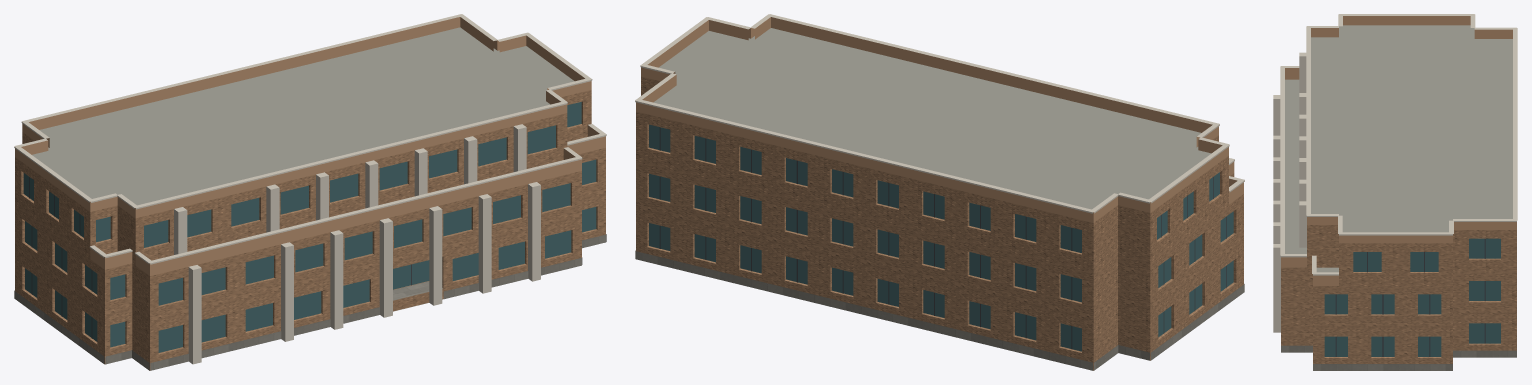
3 views of the same model, side by side, from view 1: azimuth 30°, elevation 25°; view 2: azimuth 150°, elevation 25°; view 3: azimuth 270°, elevation 25° (orthographic). The views are drawn at different scales.
Visible parts, largest first — view 1: rotc__wall, rotc__roof, rotc__glass, rotc__trim, rotc__parapet, rotc__base; view 2: rotc__wall, rotc__roof, rotc__glass, rotc__parapet, rotc__trim, rotc__base, rotc__frame; view 3: rotc__roof, rotc__wall, rotc__trim, rotc__glass, rotc__parapet, rotc__base, rotc__frame.
Part boxes in pixels (left/top/right/bottom): rotc__wall: left=15, top=90, right=605, bottom=370; rotc__roof: left=32, top=27, right=574, bottom=364; rotc__glass: left=23, top=102, right=596, bottom=352; rotc__trim: left=14, top=14, right=606, bottom=364; rotc__parapet: left=15, top=17, right=605, bottom=275; rotc__base: left=14, top=234, right=606, bottom=370; rotc__wall: left=636, top=76, right=1243, bottom=370; rotc__roof: left=653, top=28, right=1211, bottom=360; rotc__glass: left=649, top=124, right=1233, bottom=351; rotc__parapet: left=636, top=17, right=1243, bottom=222; rotc__trim: left=635, top=14, right=1244, bottom=213; rotc__base: left=635, top=250, right=1244, bottom=370; rotc__frame: left=659, top=127, right=1226, bottom=349; rotc__roof: left=1285, top=25, right=1512, bottom=272; rotc__wall: left=1281, top=225, right=1516, bottom=363; rotc__trim: left=1273, top=14, right=1517, bottom=332; rotc__glass: left=1324, top=238, right=1500, bottom=356; rotc__parapet: left=1281, top=16, right=1516, bottom=285; rotc__base: left=1281, top=345, right=1516, bottom=370; rotc__frame: left=1335, top=238, right=1485, bottom=356.
Size of the model in its own units: 40.08 by 11.62 by 18.8.
8 materials, 2 textured.
